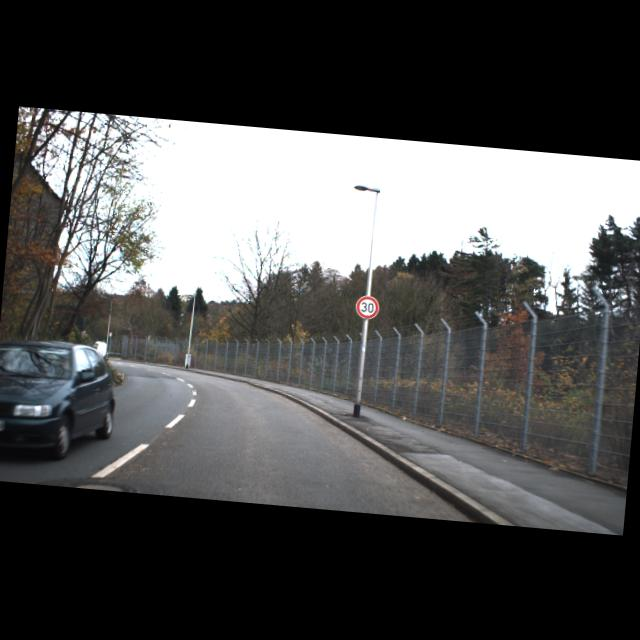prohibitory: (354, 294, 379, 318)
